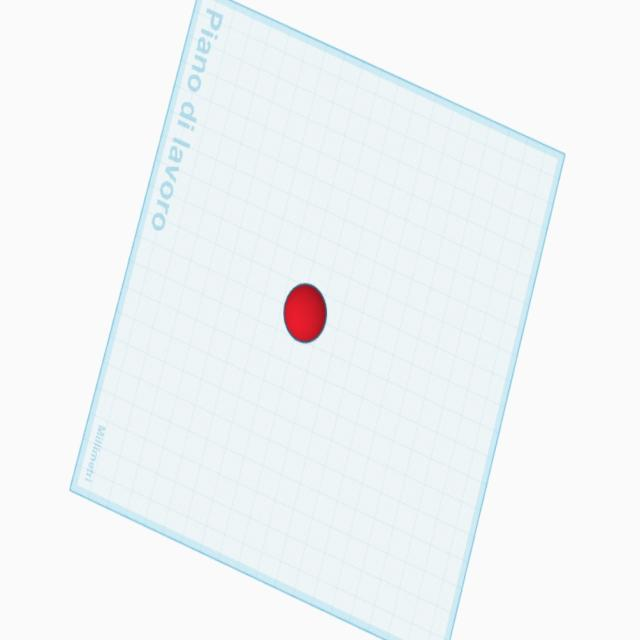sphere: (279, 278, 330, 348)
